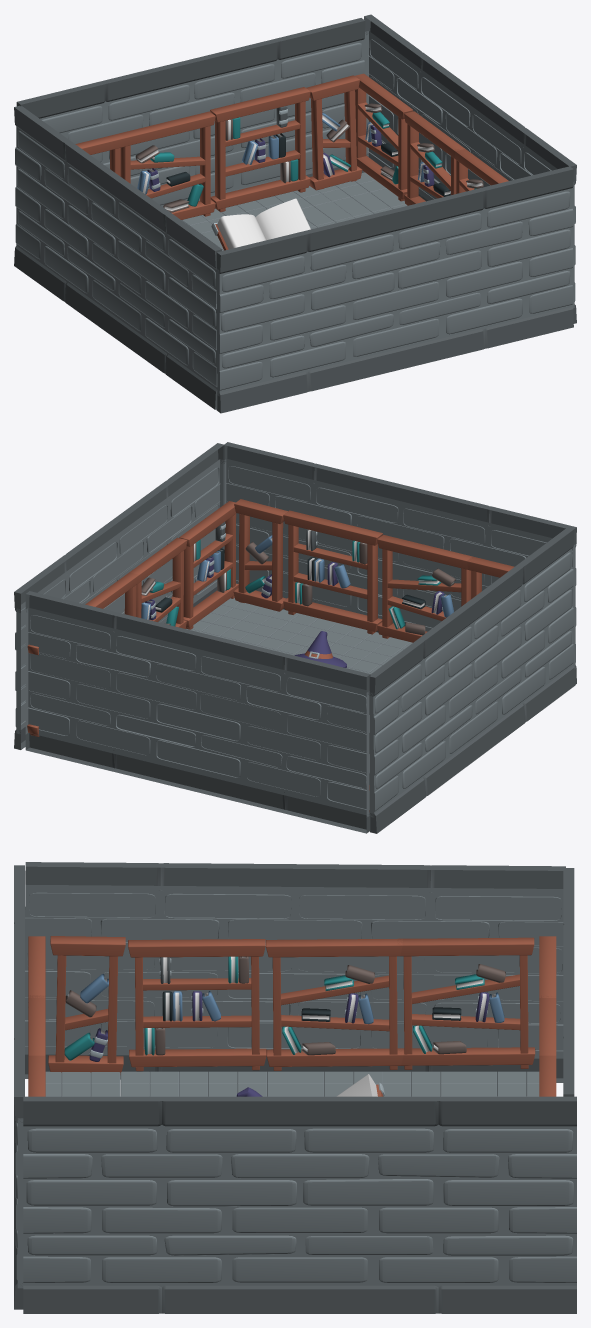
File: Title.fbx
3 renders of one model, top to bottom at view 1: azimuth 30°, elevation 25°; view 2: azimuth 150°, elevation 25°; view 3: azimuth 270°, elevation 25°, orthographic. The views are drawn at different scales.
Parts seen in each view (by area): view 1: wallSingle.002, wallSingle.001, wallSingle.003, wallSingle, bookcaseWideFilled.003, bookcaseWideFilled_broken.007, bookcaseWideFilled_broken.014, bookcaseFilled_broken.004, bookcaseWideFilled_broken.016, spellBook.001, tileBrickB_large.035, bookcaseWideFilled_broken.017 (+5 smaller); view 2: wallSingle.003, wallSingle.001, wallSingle.002, wallSingle, bookcaseWideFilled.002, bookcaseWideFilled_broken.003, bookcaseWideFilled.008, bookcaseFilled_broken.002, bookcaseWideFilled_broken.017, tileBrickB_large.002, tileBrickB_large.003, tileBrickB_large.021 (+6 smaller); view 3: wallSingle, wallSingle.001, bookcaseWideFilled.001, bookcaseWideFilled_broken.001, bookcaseWideFilled_broken.002, bookcaseFilled_broken.001, wallSingle.002, wallSingle.003, tileBrickB_large.012, tileBrickB_large.029, tileBrickB_large.013, tileBrickB_large.014 (+9 smaller).
Part boxes in pixels (x1,y1,x2,y2): wallSingle.002: [216, 166, 573, 413]; wallSingle.001: [14, 105, 221, 409]; wallSingle.003: [16, 18, 365, 208]; wallSingle: [364, 14, 576, 323]; bookcaseWideFilled.003: [210, 87, 310, 212]; bookcaseWideFilled_broken.007: [119, 111, 215, 219]; bookcaseWideFilled_broken.014: [355, 73, 413, 201]; bookcaseFilled_broken.004: [306, 75, 362, 190]; bookcaseWideFilled_broken.016: [404, 111, 464, 205]; spellBook.001: [211, 198, 310, 250]; tileBrickB_large.035: [317, 172, 396, 208]; bookcaseWideFilled_broken.017: [454, 147, 508, 193]; wallSingle.003: [25, 591, 370, 833]; wallSingle.001: [369, 527, 575, 833]; wallSingle.002: [223, 442, 576, 684]; wallSingle: [14, 443, 224, 749]; bookcaseWideFilled.002: [283, 510, 382, 634]; bookcaseWideFilled_broken.003: [377, 534, 475, 642]; bookcaseWideFilled.008: [179, 501, 238, 629]; bookcaseFilled_broken.002: [233, 499, 287, 611]; bookcaseWideFilled_broken.017: [130, 537, 187, 628]; tileBrickB_large.002: [250, 609, 337, 646]; tileBrickB_large.003: [306, 623, 391, 659]; tileBrickB_large.021: [200, 598, 278, 632]; wallSingle: [23, 1096, 576, 1313]; wallSingle.001: [25, 862, 565, 1082]; bookcaseWideFilled.001: [128, 939, 266, 1071]; bookcaseWideFilled_broken.001: [266, 938, 403, 1070]; bookcaseWideFilled_broken.002: [397, 937, 535, 1069]; bookcaseFilled_broken.001: [48, 936, 125, 1074]; wallSingle.002: [14, 865, 24, 1309]; wallSingle.003: [563, 868, 574, 1096]; tileBrickB_large.012: [120, 1071, 208, 1096]; tileBrickB_large.029: [382, 1071, 469, 1096]; tileBrickB_large.013: [208, 1071, 295, 1096]; tileBrickB_large.014: [45, 1071, 120, 1096].
Size of the model in its own units: 3833 by 1632 by 3839.
